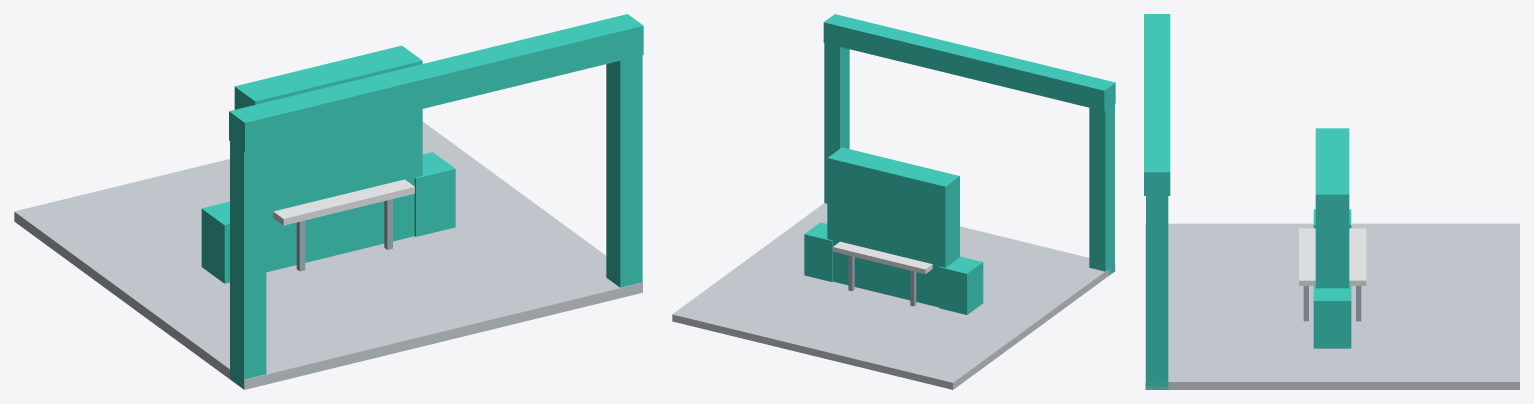
3 renders of one model, left to right at view 1: azimuth 30°, elevation 25°; view 2: azimuth 150°, elevation 25°; view 3: azimuth 270°, elevation 25°, orthographic. The views are drawn at different scales.
Visible parts, largest first — view 1: Exhibition Booth Concept; view 2: Exhibition Booth Concept; view 3: Exhibition Booth Concept.
Boxes of the visible parts, x1=… form: Exhibition Booth Concept: x1=14, y1=14, x2=643, y2=389; Exhibition Booth Concept: x1=672, y1=14, x2=1115, y2=389; Exhibition Booth Concept: x1=1144, y1=14, x2=1519, y2=389.
Size of the model in its own units: 5 by 3.2 by 5.02.
